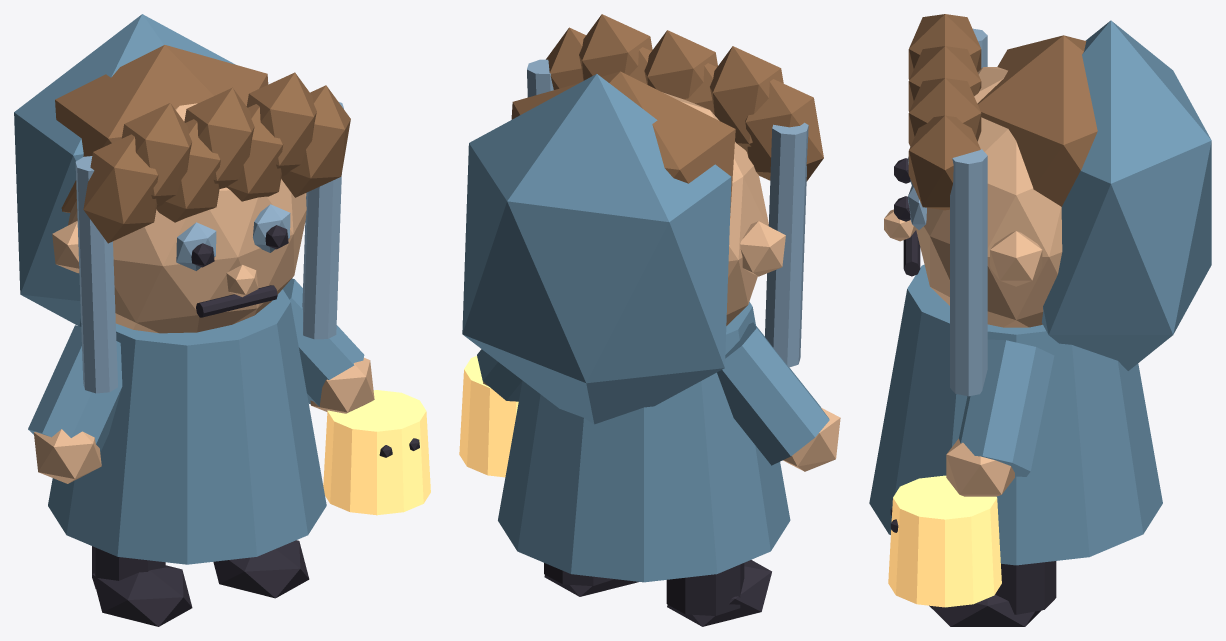
The model's file is mason-aurora-ghost.glb.
The picture shows the model from 3 angles, left to right: view 1: azimuth 30°, elevation 25°; view 2: azimuth 150°, elevation 25°; view 3: azimuth 270°, elevation 25°; orthographic projection. The views are drawn at different scales.
Parts seen in each view (by area): view 1: Costume torso.003, Hair cap.003, Head.003, Eye white.003, Boot leg.003, Ghost lantern.001; view 2: Costume torso.003, Hair cap.003, Eye white.003, Head.003, Boot leg.003, Ghost lantern.001; view 3: Costume torso.003, Hair cap.003, Head.003, Ghost lantern.001, Eye white.003, Boot leg.003.
Boxes of the visible parts, bbox=[...] form: Costume torso.003: bbox=[14, 14, 364, 564]; Hair cap.003: bbox=[55, 45, 350, 243]; Head.003: bbox=[33, 103, 374, 483]; Eye white.003: bbox=[75, 102, 343, 393]; Boot leg.003: bbox=[92, 225, 419, 626]; Ghost lantern.001: bbox=[323, 390, 430, 515]; Costume torso.003: bbox=[462, 74, 829, 582]; Hair cap.003: bbox=[511, 14, 823, 217]; Eye white.003: bbox=[527, 59, 808, 367]; Head.003: bbox=[483, 92, 840, 471]; Boot leg.003: bbox=[544, 560, 771, 626]; Ghost lantern.001: bbox=[459, 356, 518, 477]; Costume torso.003: bbox=[869, 20, 1211, 565]; Hair cap.003: bbox=[908, 14, 1097, 210]; Head.003: bbox=[884, 67, 1062, 496]; Ghost lantern.001: bbox=[888, 475, 1001, 607]; Eye white.003: bbox=[908, 28, 987, 396]; Boot leg.003: bbox=[890, 158, 1056, 626].
Size of the model in its own units: 0.0189 by 0.0268 by 0.0145.
